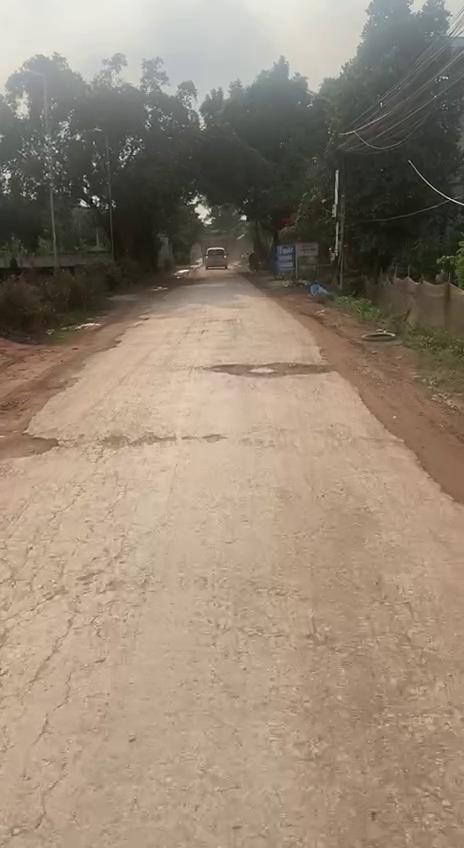pothole: (187, 358, 338, 382), (0, 424, 70, 471)
